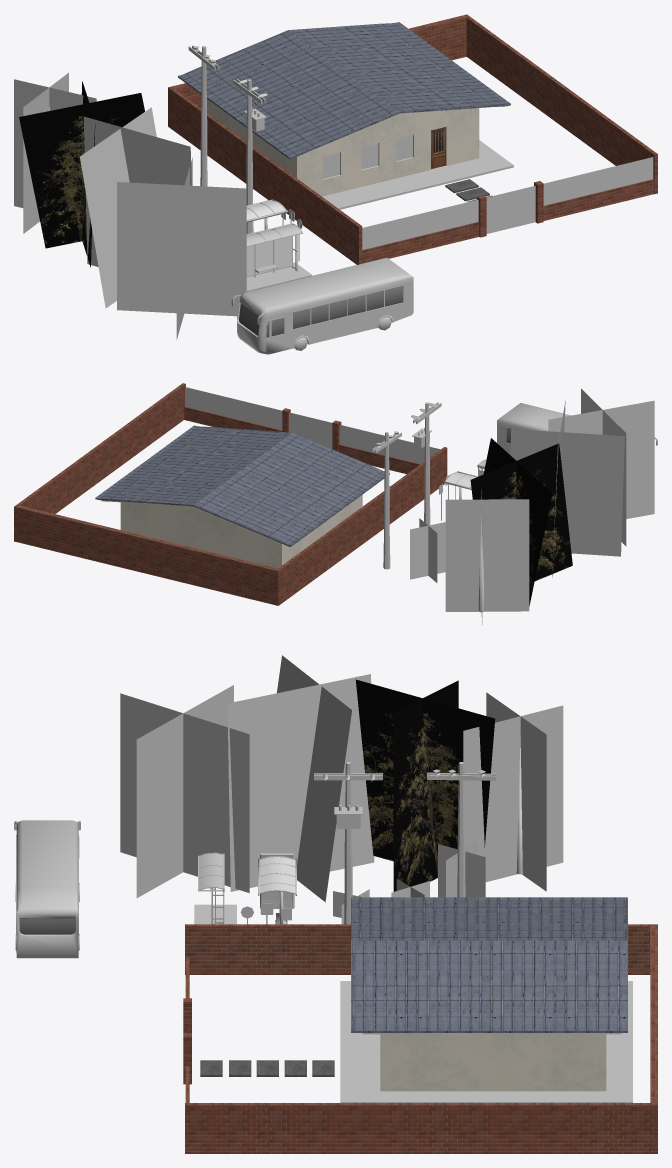
File: Props.fbx
3 views of the same model, one above another, from view 1: azimuth 30°, elevation 25°; view 2: azimuth 150°, elevation 25°; view 3: azimuth 270°, elevation 25° (orthographic). The views are drawn at different scales.
Parts seen in each view (by area): view 1: House, Brick, Tree_02, Bus, Tree_03, Tree, Tree_01, Bus_stop, Cube.036, Lamppost, Lamppost_01, Concrete (+2 smaller); view 2: Brick, House, Tree_01, Tree_03, Tree, Tree_02, Plants, Bus, Lamppost, Cube.036, Lamppost_01, Bus_stop_01; view 3: House, Brick, Tree_03, Tree_02, Tree, Tree_01, Bus, Lamppost, Plants, Asphalt, Lamppost_01, Bus_stop_01 (+2 smaller).
Boxes of the visible parts, bbox=[...] form: House: bbox=[178, 22, 513, 209]; Brick: bbox=[168, 14, 657, 264]; Tree_02: bbox=[117, 157, 246, 339]; Bus: bbox=[231, 257, 413, 354]; Tree_03: bbox=[80, 107, 191, 308]; Tree: bbox=[19, 81, 144, 267]; Tree_01: bbox=[14, 72, 96, 233]; Bus_stop: bbox=[246, 223, 303, 277]; Cube.036: bbox=[486, 185, 535, 233]; Lamppost: bbox=[233, 79, 267, 234]; Lamppost_01: bbox=[188, 45, 219, 186]; Concrete: bbox=[246, 262, 312, 291]; Brick: bbox=[14, 383, 447, 605]; House: bbox=[95, 425, 389, 568]; Tree_01: bbox=[445, 490, 529, 624]; Tree_03: bbox=[510, 400, 624, 577]; Tree: bbox=[470, 438, 572, 606]; Tree_02: bbox=[548, 388, 654, 546]; Plants: bbox=[410, 518, 445, 582]; Bus: bbox=[497, 403, 657, 454]; Lamppost: bbox=[411, 402, 441, 525]; Cube.036: bbox=[289, 412, 332, 448]; Lamppost_01: bbox=[372, 431, 401, 569]; Bus_stop_01: bbox=[443, 471, 478, 499]; House: bbox=[340, 897, 632, 1102]; Brick: bbox=[183, 924, 657, 1153]; Tree_03: bbox=[227, 655, 374, 902]; Tree_02: bbox=[120, 685, 249, 897]; Tree: bbox=[355, 679, 495, 891]; Tree_01: bbox=[463, 692, 563, 891]; Bus: bbox=[14, 820, 80, 958]; Lamppost: bbox=[314, 762, 382, 924]; Plants: bbox=[438, 841, 485, 897]; Asphalt: bbox=[200, 1060, 334, 1076]; Lamppost_01: bbox=[427, 762, 495, 897]; Bus_stop_01: bbox=[258, 856, 296, 924].
Bounding box in the file's own units: 3874 × 1114 × 3236.
